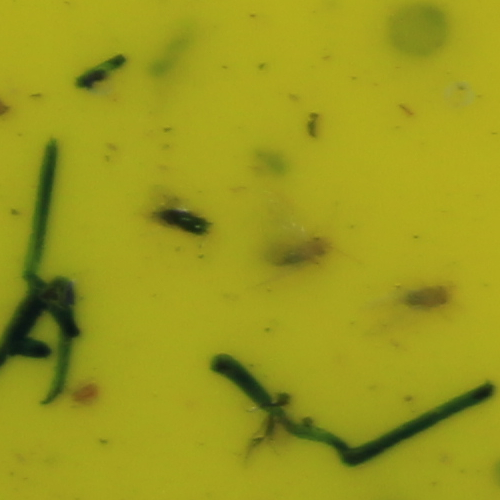psylla: (277, 235, 335, 269), (399, 282, 452, 307)
wasp: (153, 205, 213, 234)
